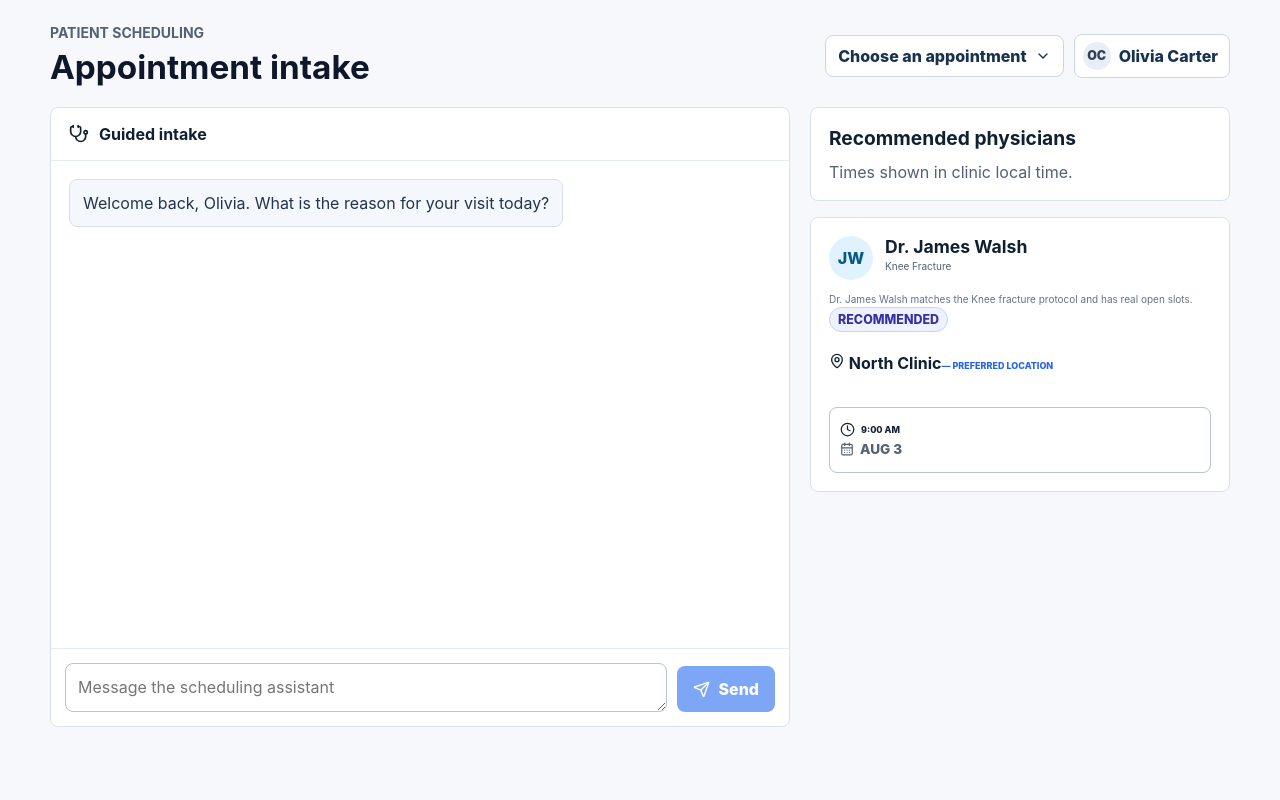
Test: keeps physician slots and review controls visible before booking
Expected: the heading "Recommended physicians" is shown, [829,126,1076,150]
Expected: the text "Times shown in clinic local time." is shown, [829,162,1073,182]
Note: Slot button renders from canonical locations shape
Click the button "9:00 AM Aug 3". click: {"x": 880, "y": 430}
box: [829,406,1211,472]
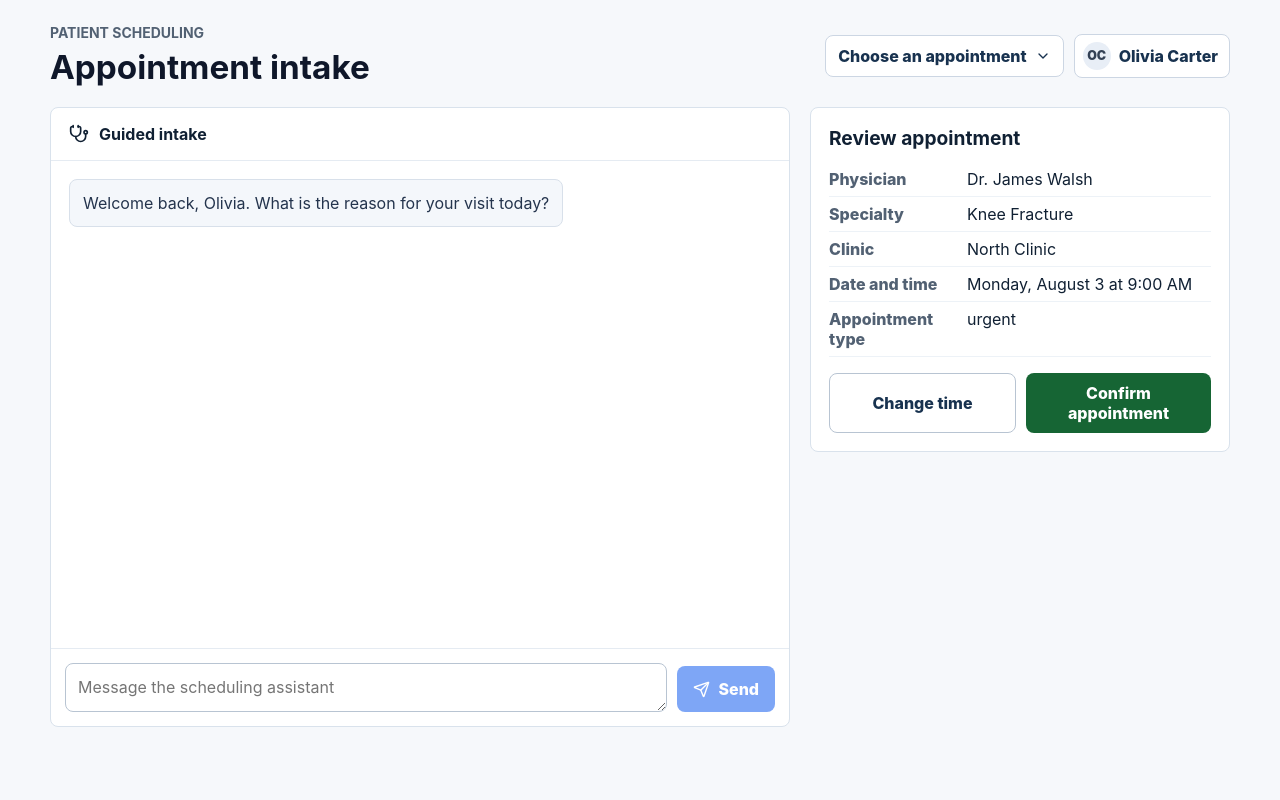
Expected: the heading "Review appointment" is shown, [829,126,1020,150]
Expected: the button "Change time" is shown, [829,373,1016,433]
Expected: the button "Confirm appointment" is shown, [1026,373,1211,433]
